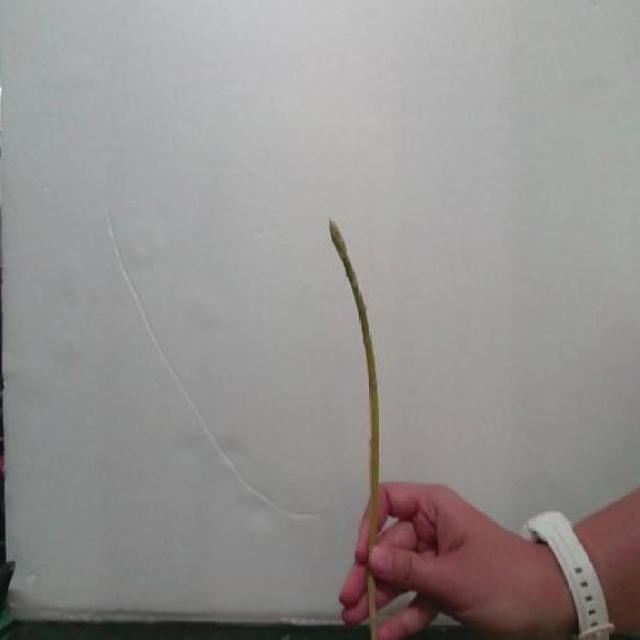aspargus: (329, 222, 381, 555)
